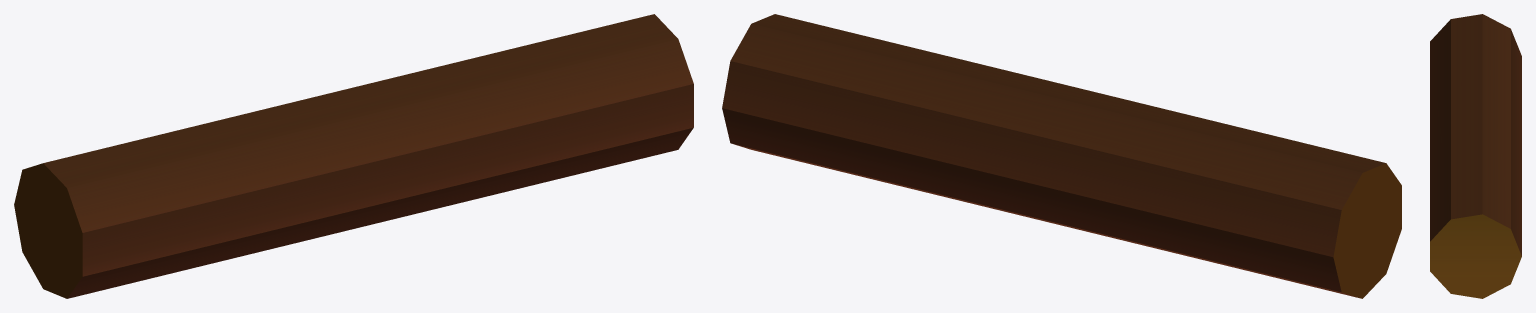
File: wood.fbx
3 views of the same model, side by side, from view 1: azimuth 30°, elevation 25°; view 2: azimuth 150°, elevation 25°; view 3: azimuth 270°, elevation 25° (orthographic). The views are drawn at different scales.
Parts seen in each view (by area): view 1: Wood; view 2: Wood; view 3: Wood.
Boxes of the visible parts, left/top/right/bottom form: Wood: left=14, top=14, right=693, bottom=298; Wood: left=722, top=14, right=1401, bottom=298; Wood: left=1430, top=14, right=1521, bottom=298.
Bounding box in the file's own units: 500 × 98.48 × 96.98.
1 material, 1 textured.
